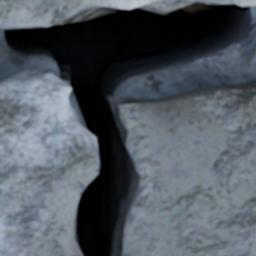brick: (0, 0, 187, 28), (194, 0, 255, 5)
broken_brick: (110, 82, 255, 255), (0, 69, 98, 255)
crack: (0, 0, 254, 255)
